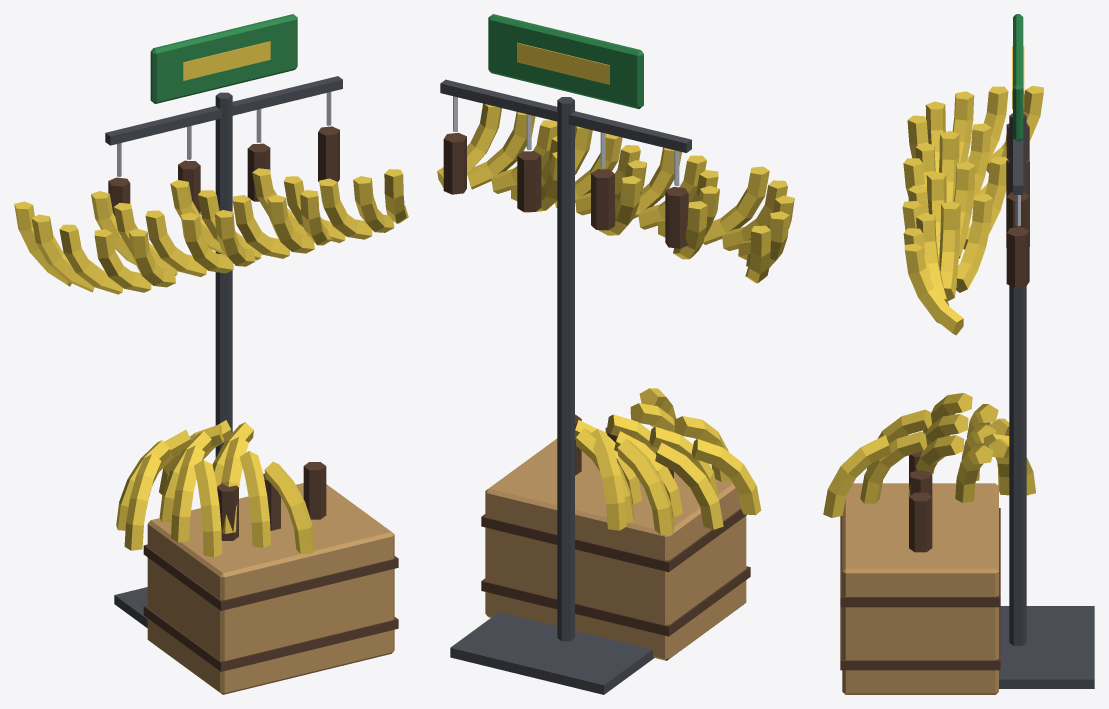
The model's file is Banana_Stand_Hanging.fbx.
The picture shows the model from 3 angles, left to right: view 1: azimuth 30°, elevation 25°; view 2: azimuth 150°, elevation 25°; view 3: azimuth 270°, elevation 25°; orthographic projection. The views are drawn at different scales.
Parts seen in each view (by area): view 1: Banana_Stand_Hanging; view 2: Banana_Stand_Hanging; view 3: Banana_Stand_Hanging.
Part boxes in pixels (left/top/right/bottom): Banana_Stand_Hanging: left=14, top=14, right=408, bottom=694; Banana_Stand_Hanging: left=437, top=14, right=794, bottom=694; Banana_Stand_Hanging: left=823, top=14, right=1094, bottom=694.
Bounding box in the file's own units: 1.21 × 1.91 × 0.7795.
1 material, 1 textured.
